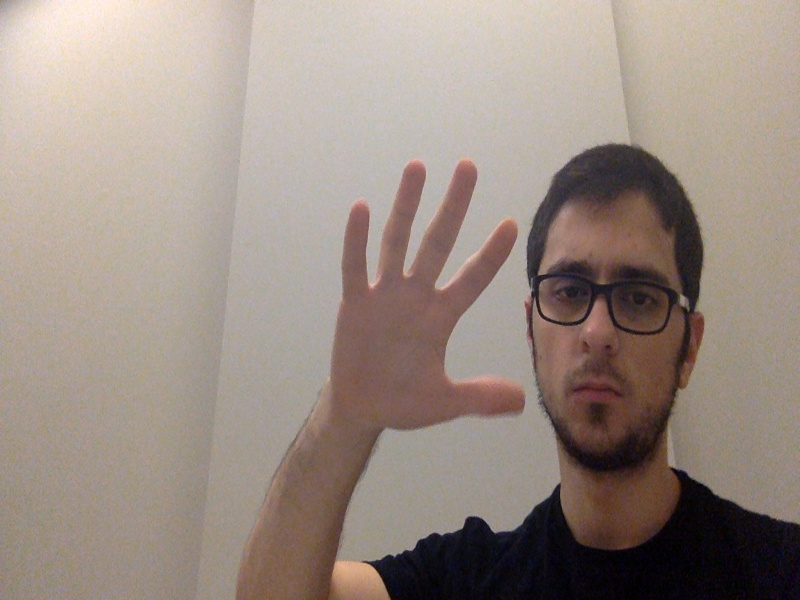5-hand: (329, 159, 526, 433)
